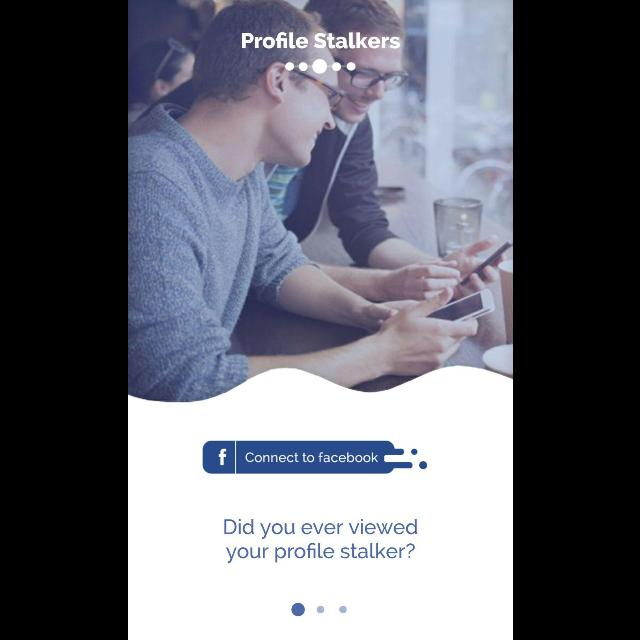image: (128, 1, 512, 403)
pageindicator: (284, 59, 356, 75), (290, 603, 346, 617)
text: (223, 518, 417, 564), (240, 31, 400, 49)
textbutton: (202, 441, 426, 474)
